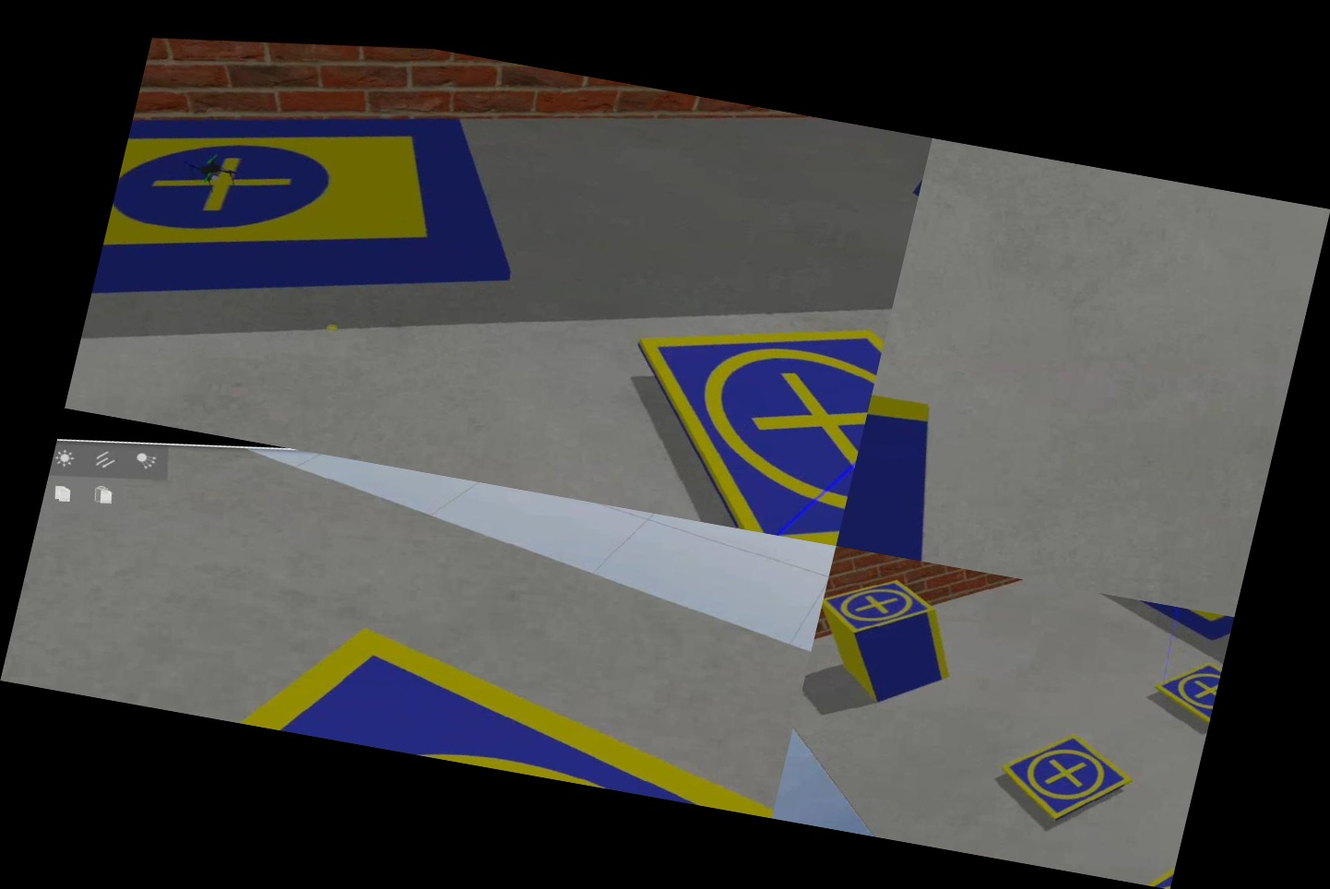large_base: (87, 56, 552, 387), (1063, 588, 1233, 662)
small_base: (0, 484, 818, 818), (598, 273, 890, 546), (986, 714, 1153, 842), (814, 562, 951, 657), (1139, 646, 1224, 733)
